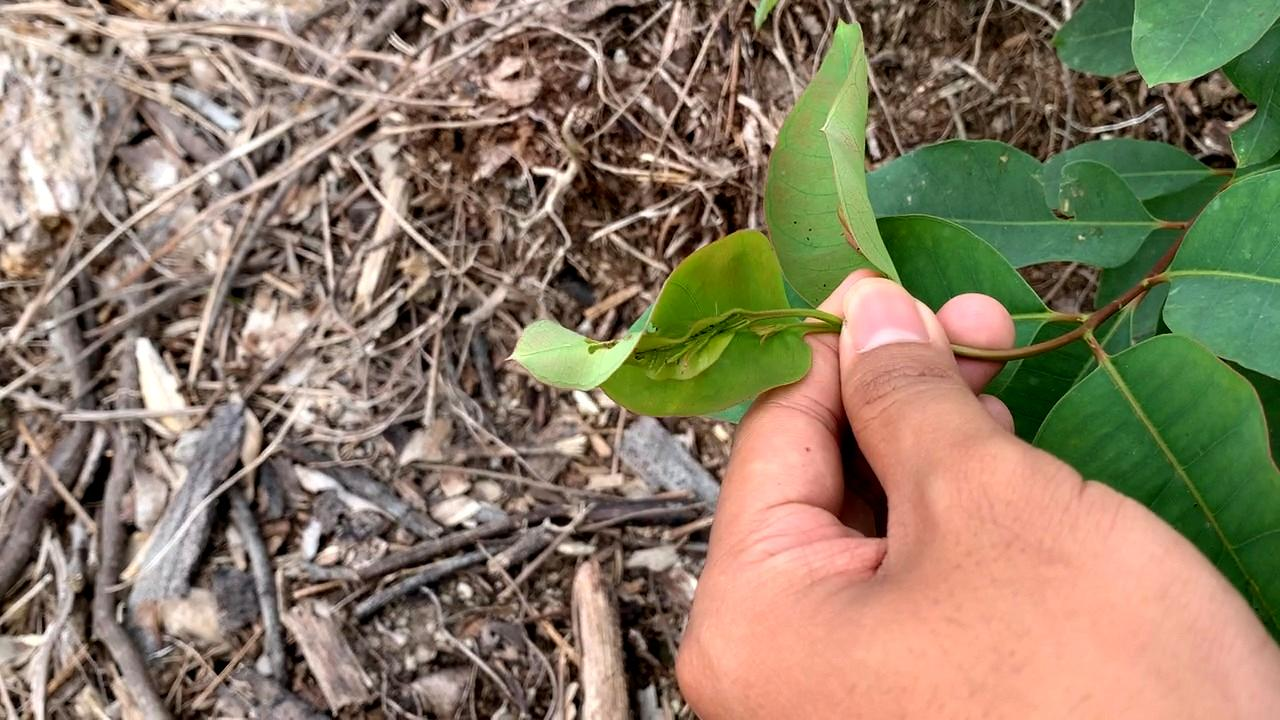Leaf Roller - Leaf: (493, 209, 828, 454)
